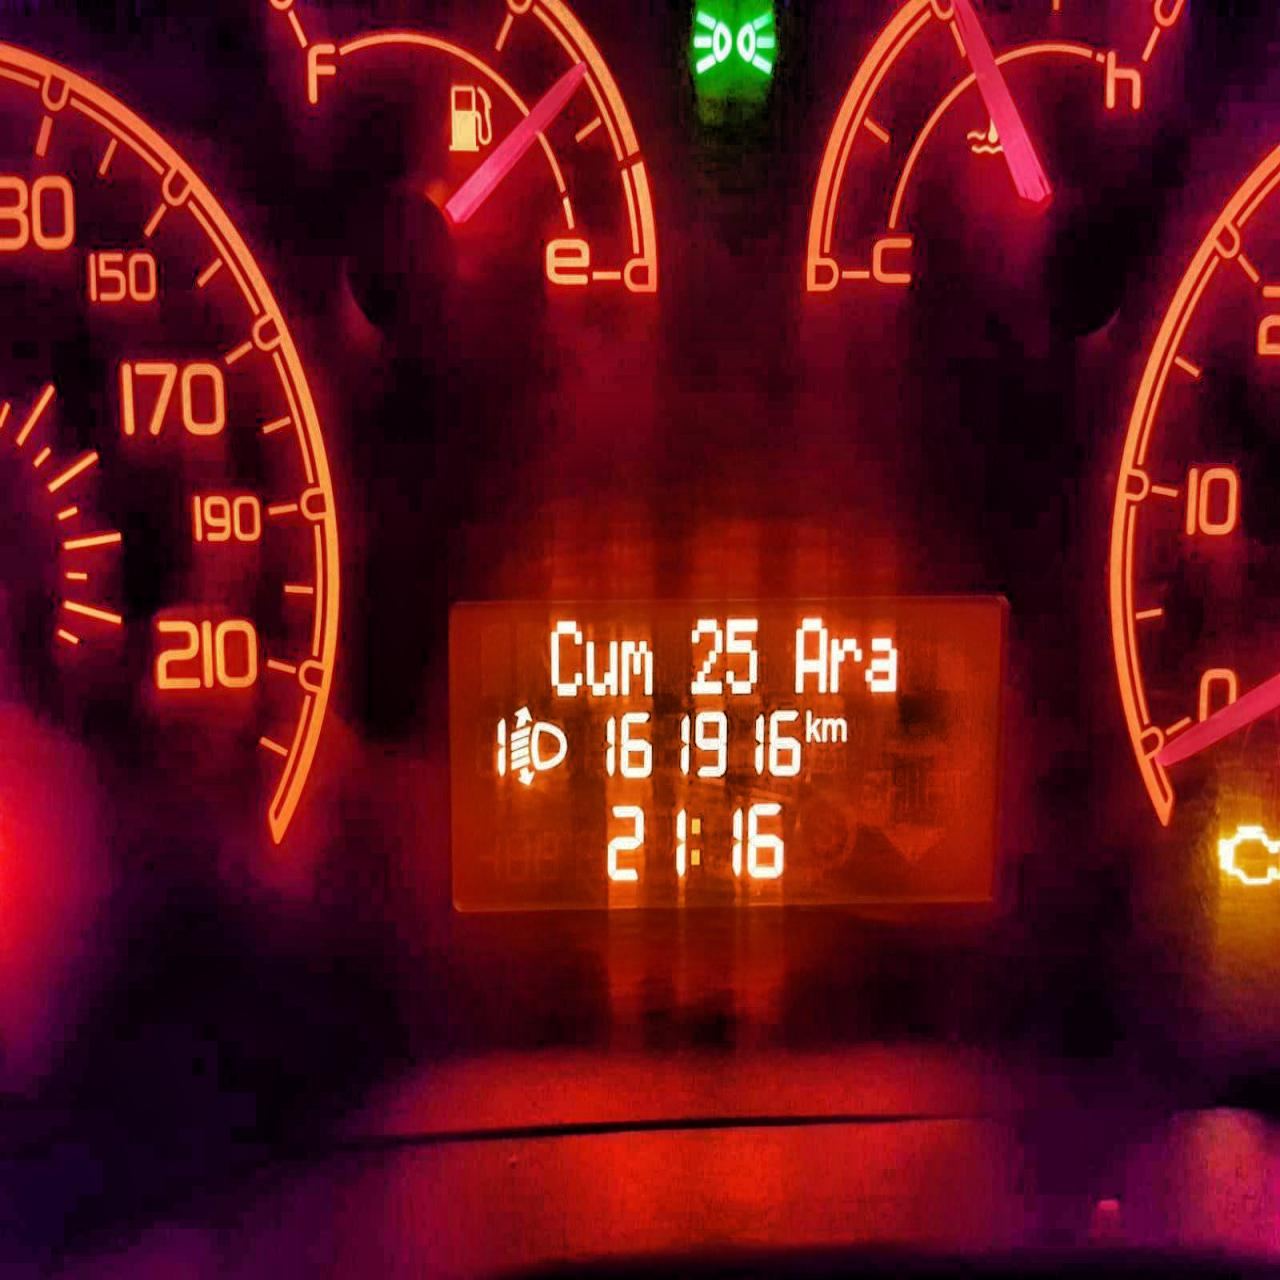1: (729, 798, 748, 884), (676, 708, 694, 782), (673, 804, 689, 883), (493, 712, 509, 790), (602, 708, 615, 782), (753, 707, 764, 781)
2: (602, 795, 649, 884), (688, 611, 726, 697)
5: (722, 614, 763, 694)
6: (747, 799, 788, 881), (618, 706, 654, 783), (770, 707, 804, 777)
9: (694, 707, 730, 779)
X: (545, 611, 586, 699), (791, 614, 831, 694), (864, 634, 901, 696), (620, 633, 658, 694), (585, 633, 618, 699), (828, 632, 859, 694), (687, 810, 704, 871), (822, 714, 849, 745), (805, 707, 822, 744)
odometer: (444, 591, 1001, 908)
